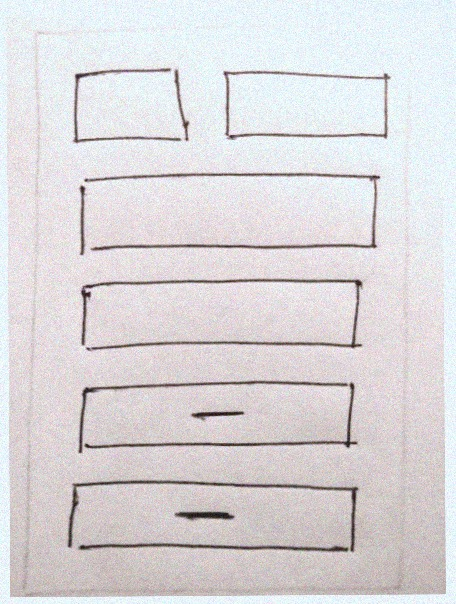button: (57, 472, 370, 566), (69, 373, 365, 463)
text_input: (71, 165, 389, 263), (72, 273, 376, 363), (215, 60, 402, 152), (63, 63, 201, 149)
